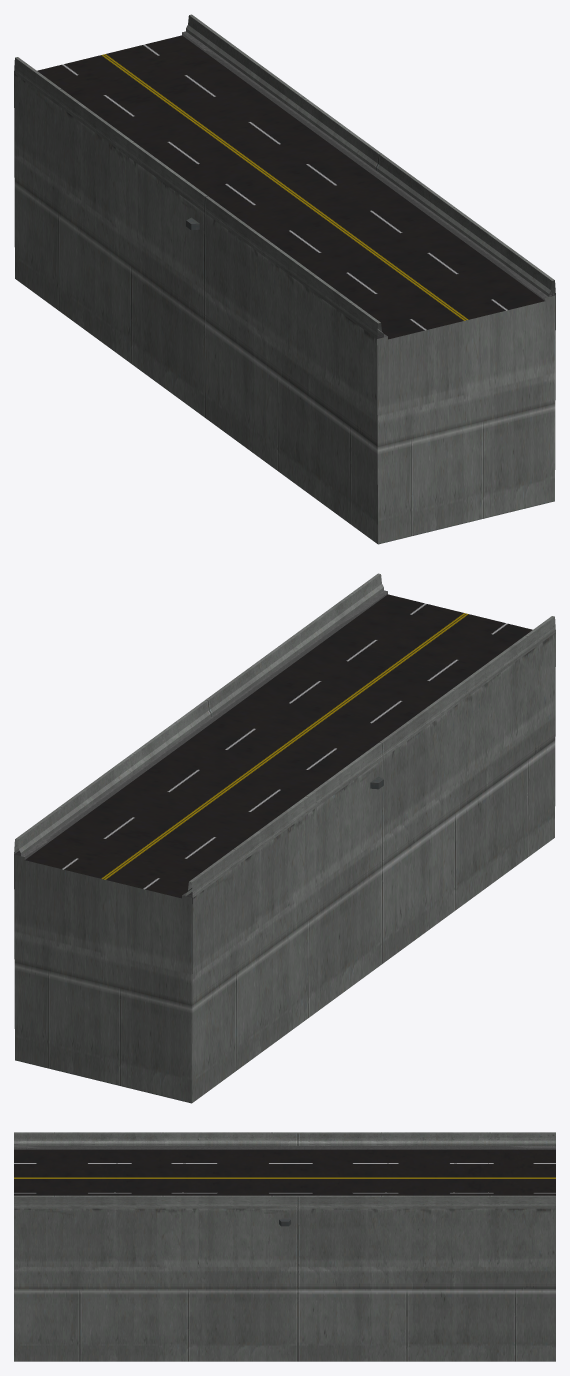
The model's file is RJs_Road Slim 2+2 Elevated Segment_lod.fbx.
3 views of the same model, one above another, from view 1: azimuth 30°, elevation 25°; view 2: azimuth 150°, elevation 25°; view 3: azimuth 270°, elevation 25° (orthographic). The views are drawn at different scales.
Visible parts, largest first — view 1: plane_lod; view 2: plane_lod; view 3: plane_lod.
Part boxes in pixels (x1,y1,x2,y2): plane_lod: [14, 14, 555, 544]; plane_lod: [14, 573, 555, 1103]; plane_lod: [14, 1132, 555, 1361].
Bounding box in the file's own units: 1960 × 2150 × 6400.
